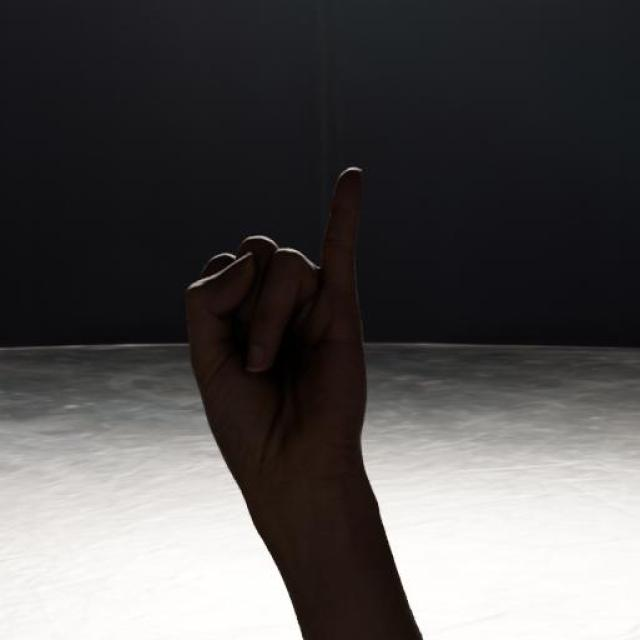I: (180, 163, 370, 502)
